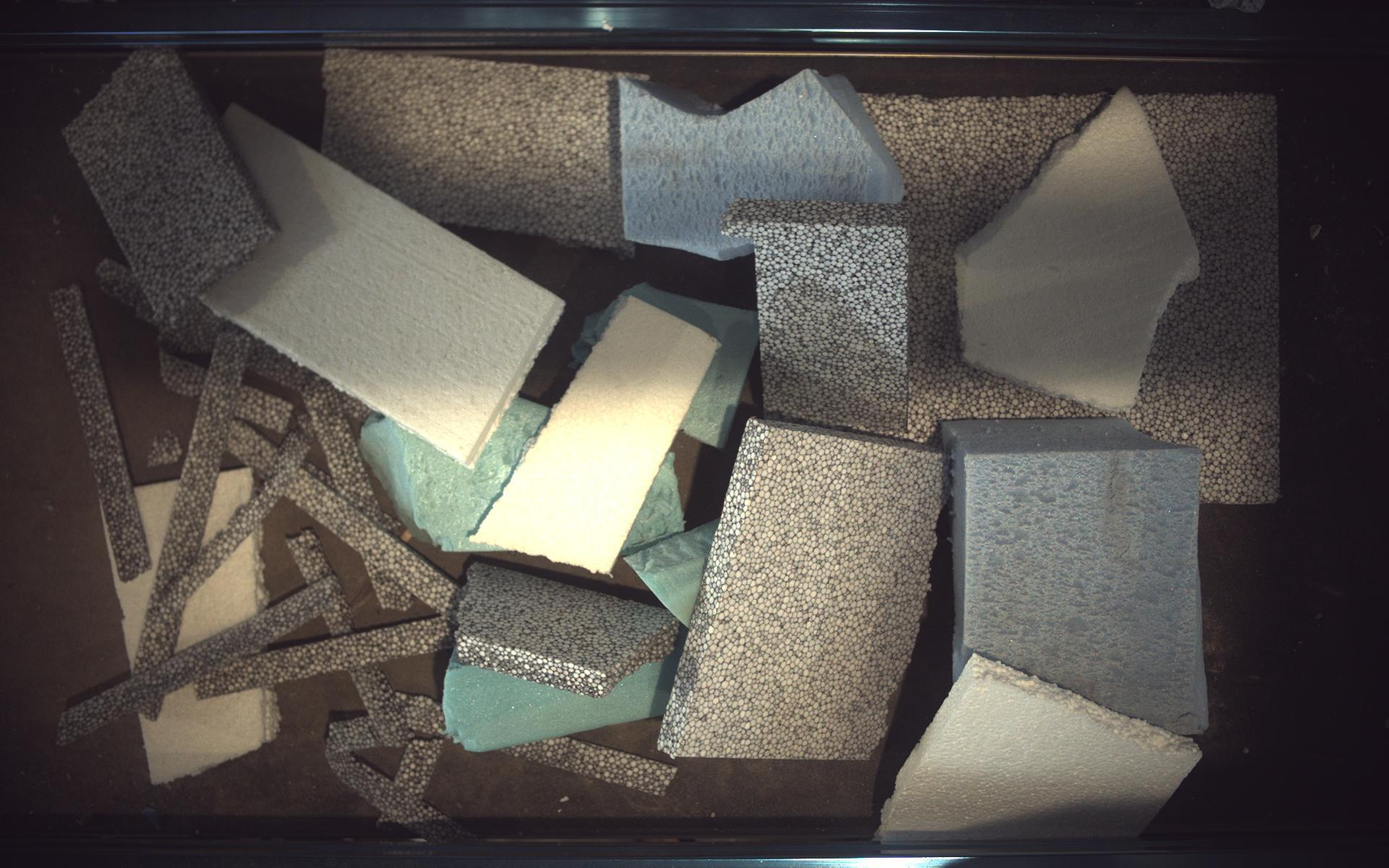foam: (204, 104, 564, 467), (660, 421, 943, 761), (943, 418, 1211, 736), (865, 93, 1107, 441), (958, 86, 1202, 409), (472, 296, 720, 574), (1124, 93, 1282, 504), (322, 48, 634, 251), (878, 655, 1205, 844), (61, 49, 278, 326), (621, 68, 905, 259), (56, 576, 338, 746), (724, 200, 911, 438), (134, 326, 251, 673), (148, 431, 308, 628), (573, 283, 760, 448), (455, 563, 681, 698), (48, 284, 150, 582), (443, 632, 687, 754), (360, 398, 551, 552), (285, 469, 458, 615), (195, 617, 449, 698), (301, 378, 396, 531), (139, 685, 279, 786), (327, 752, 473, 843), (109, 480, 177, 665), (177, 530, 267, 651), (504, 738, 677, 797), (625, 521, 720, 627), (623, 452, 684, 555), (352, 665, 414, 749), (247, 339, 319, 393), (94, 258, 153, 323), (203, 467, 253, 541), (394, 739, 443, 799), (234, 386, 292, 435), (363, 556, 413, 612), (227, 420, 275, 477), (286, 529, 331, 584), (396, 693, 446, 739), (159, 349, 205, 397), (326, 717, 378, 755), (322, 586, 353, 637), (328, 389, 370, 422), (146, 430, 182, 468)
